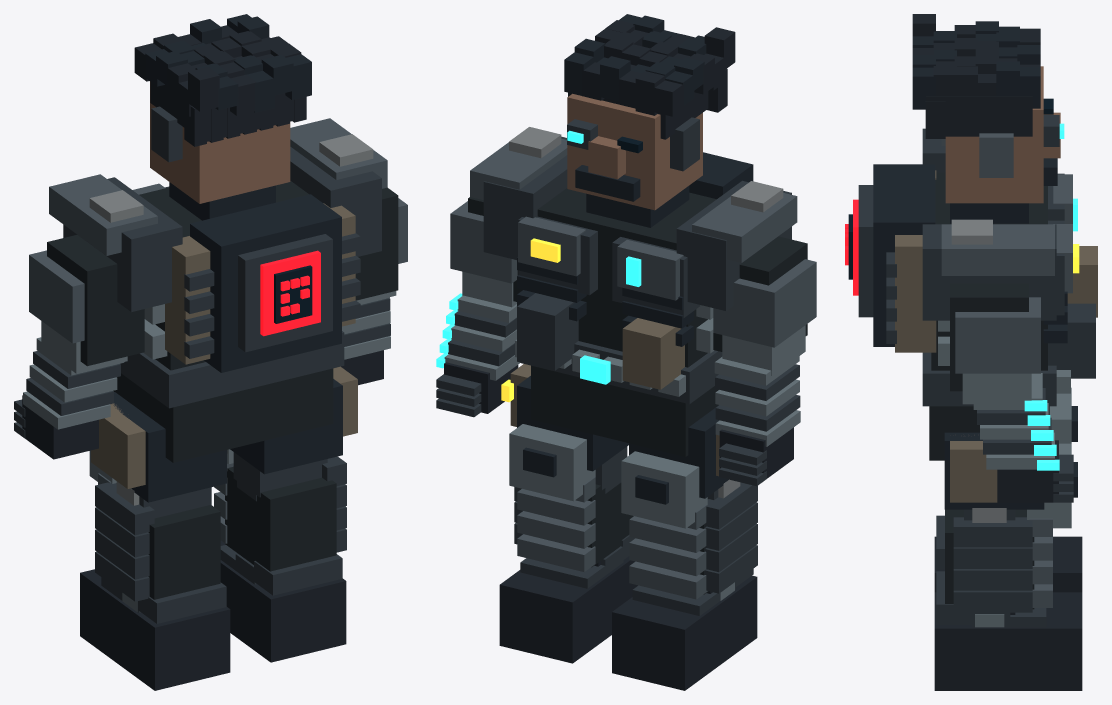
Rendered from mercenary.glb.
3 renders of one model, left to right at view 1: azimuth 30°, elevation 25°; view 2: azimuth 150°, elevation 25°; view 3: azimuth 270°, elevation 25°, orthographic. The views are drawn at different scales.
Parts seen in each view (by area): view 1: torso, head, left_arm, left_foot, left_knee, right_foot, right_arm, right_knee, left_leg, right_leg; view 2: torso, head, left_arm, right_arm, left_knee, right_knee, left_foot, right_foot, right_leg, left_leg; view 3: torso, right_arm, head, right_foot, right_knee, right_leg, left_foot, left_knee.
Part boxes in pixels (bbox=[...]): torso: bbox=[63, 147, 381, 462]; head: bbox=[134, 14, 311, 220]; left_arm: bbox=[14, 174, 157, 459]; left_foot: bbox=[80, 569, 230, 690]; left_knee: bbox=[89, 450, 220, 611]; right_foot: bbox=[220, 540, 346, 662]; right_arm: bbox=[290, 118, 407, 385]; right_knee: bbox=[214, 449, 346, 571]; left_leg: bbox=[91, 392, 226, 518]; right_leg: bbox=[230, 366, 357, 501]; torso: bbox=[483, 136, 791, 456]; head: bbox=[564, 14, 735, 227]; left_arm: bbox=[692, 181, 816, 486]; right_arm: bbox=[436, 127, 567, 417]; left_knee: bbox=[621, 451, 757, 600]; right_knee: bbox=[509, 424, 633, 571]; left_foot: bbox=[612, 568, 757, 690]; right_foot: bbox=[499, 535, 637, 663]; right_leg: bbox=[510, 364, 628, 493]; left_leg: bbox=[629, 405, 740, 499]; torso: bbox=[845, 128, 1097, 460]; right_arm: bbox=[941, 219, 1073, 502]; head: bbox=[912, 14, 1064, 223]; right_foot: bbox=[934, 571, 1082, 690]; right_knee: bbox=[945, 443, 1077, 627]; right_leg: bbox=[944, 432, 1044, 522]; left_foot: bbox=[934, 515, 1082, 592]; left_knee: bbox=[1049, 387, 1077, 443].
Size of the model in its own units: 1.13 by 1.93 by 0.7355.
